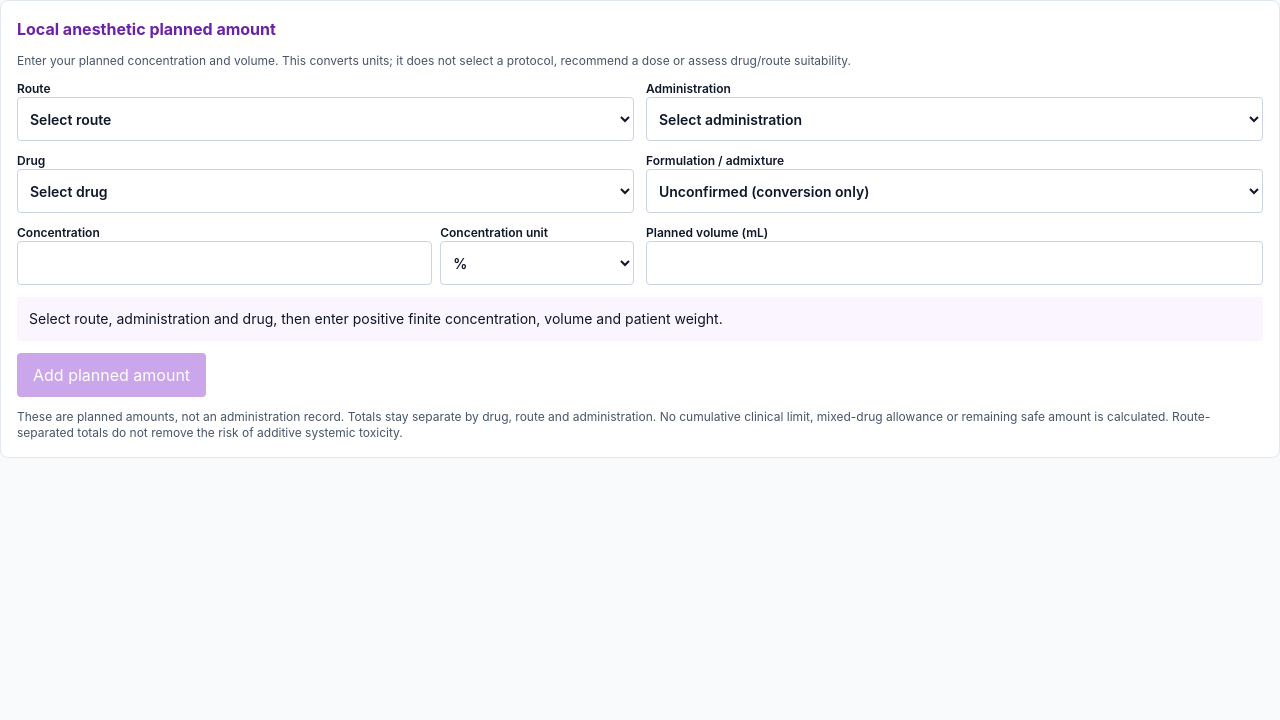
Test: Visible cautions and independent arithmetic › keeps arithmetic available when a formulation cannot support a reference comparison
The image size is (1280, 720).
Select "Caudal" in the dropdown labelled "Route" at x=326, y=119, box [17,97,634,141]
Select "Single administration" in the dropdown labelled "Administration" at x=954, y=119, box [646,97,1263,141]
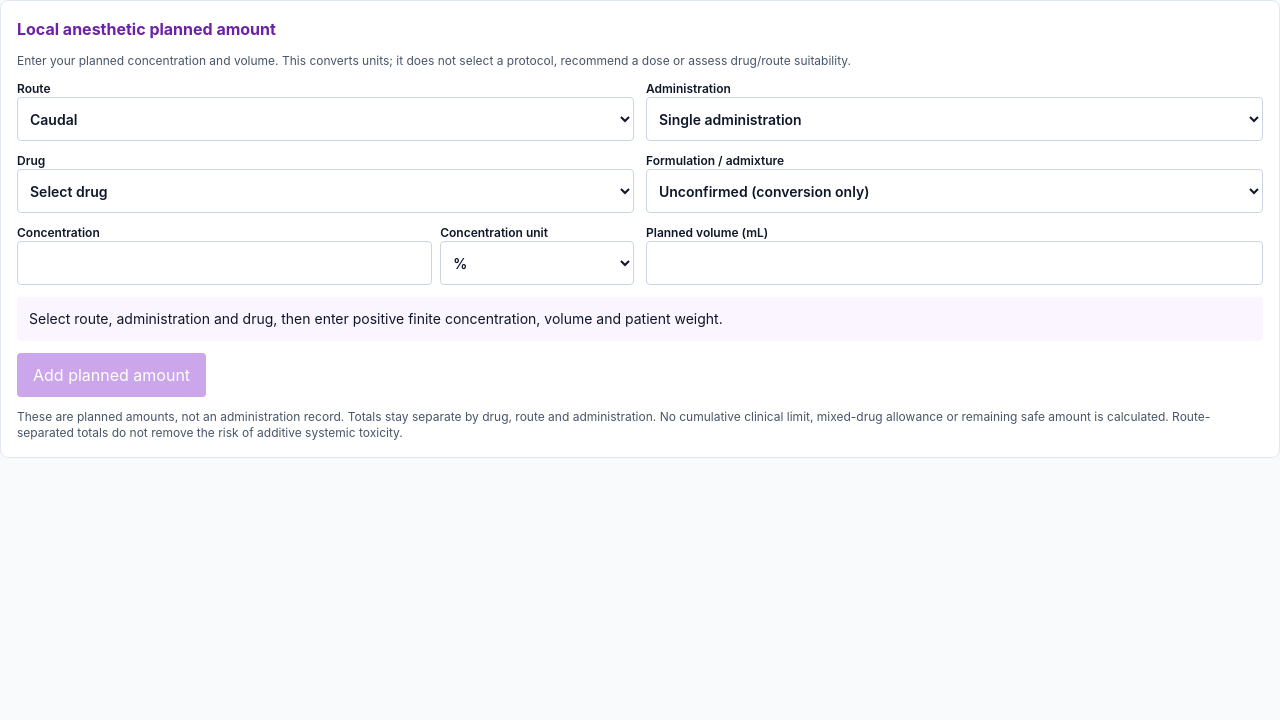
Select "Bupivacaine" in the dropdown labelled "Drug" at x=326, y=191, box [17,169,634,213]
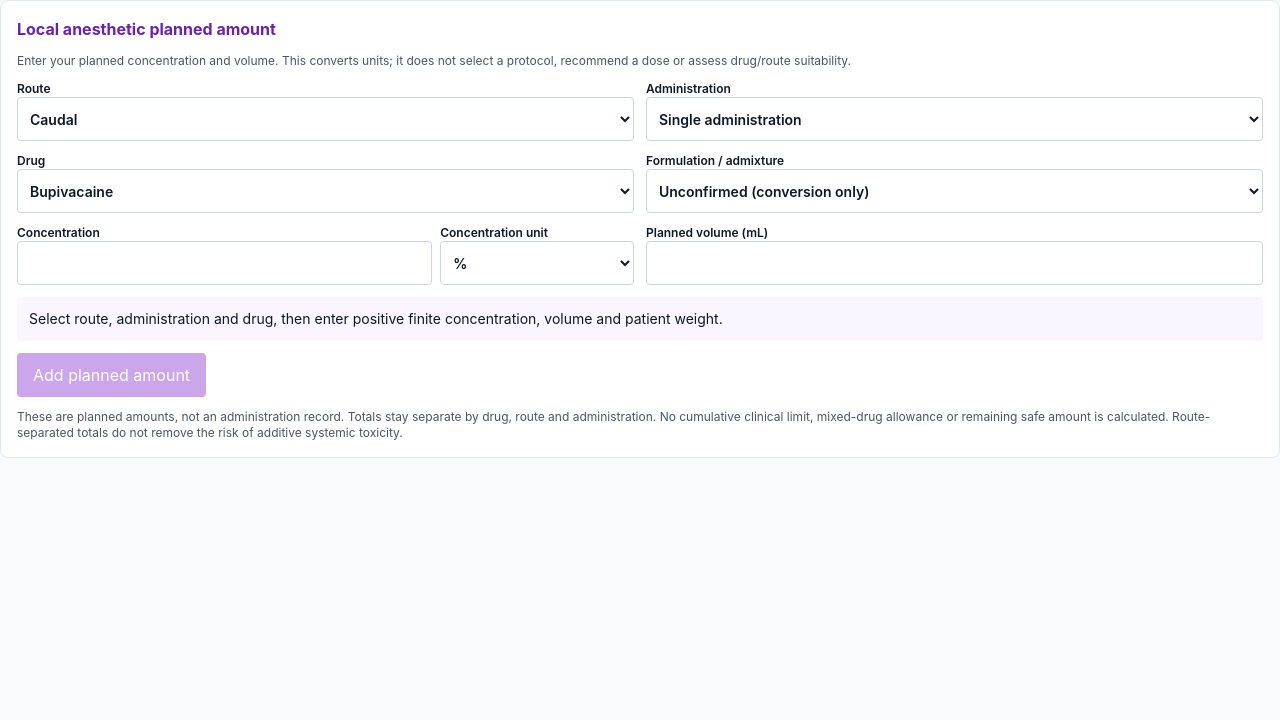
Select "Plain — no epinephrine or other adjuvants" in the dropdown labelled "Formulation / admixture" at x=954, y=191, box [646,169,1263,213]
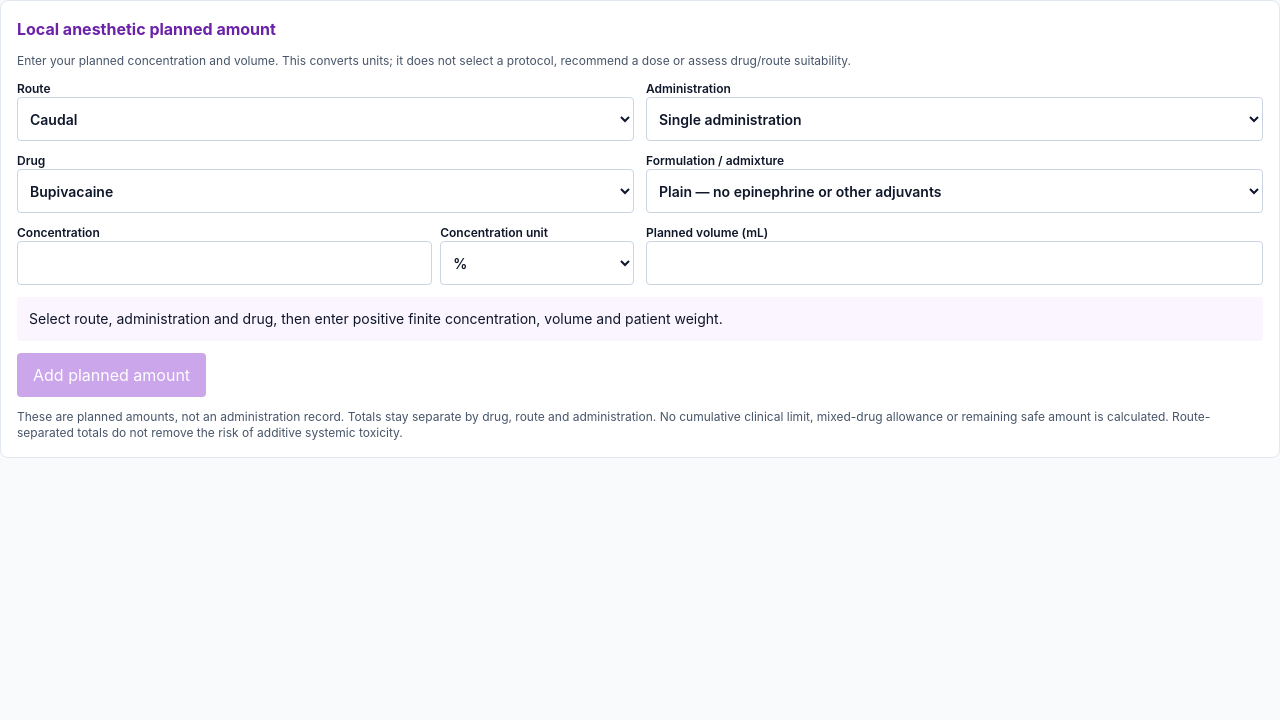
Type "0.25" into the number field labelled "Concentration" at x=225, y=263, box [17,241,432,285]
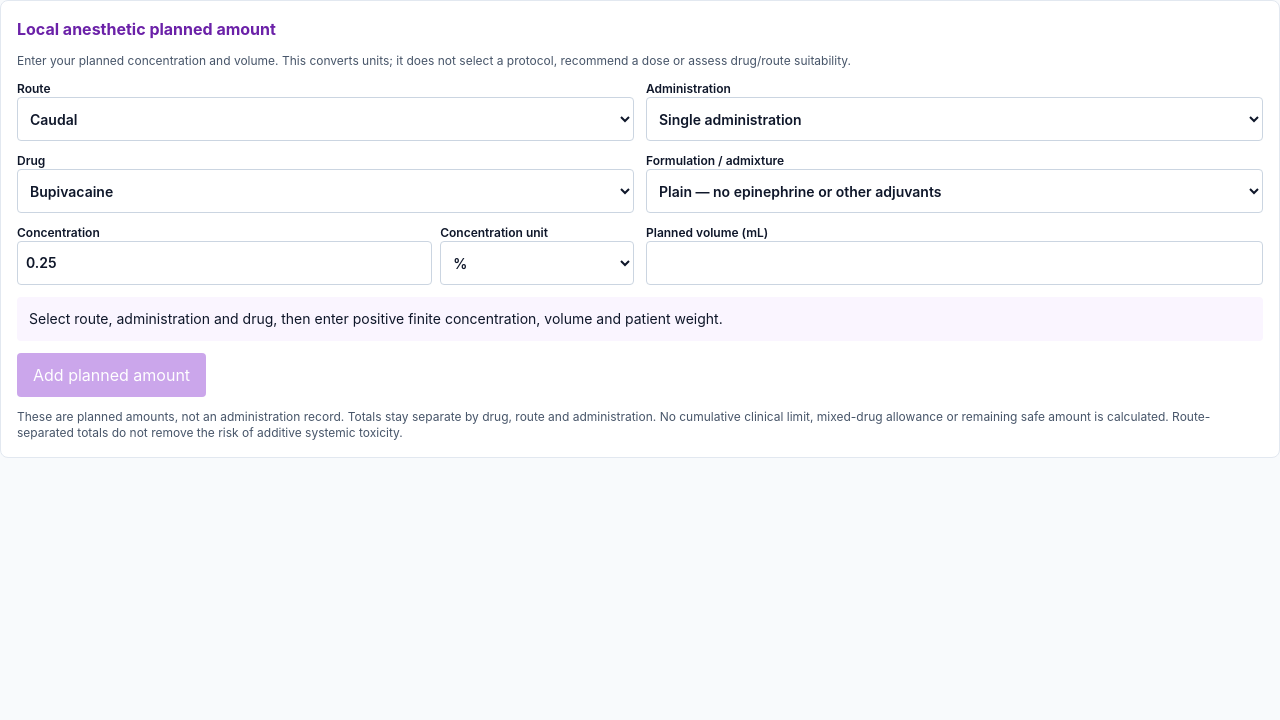
Type "12.5" into the number field labelled "Planned volume (mL)" at x=954, y=263, box [646,241,1263,285]
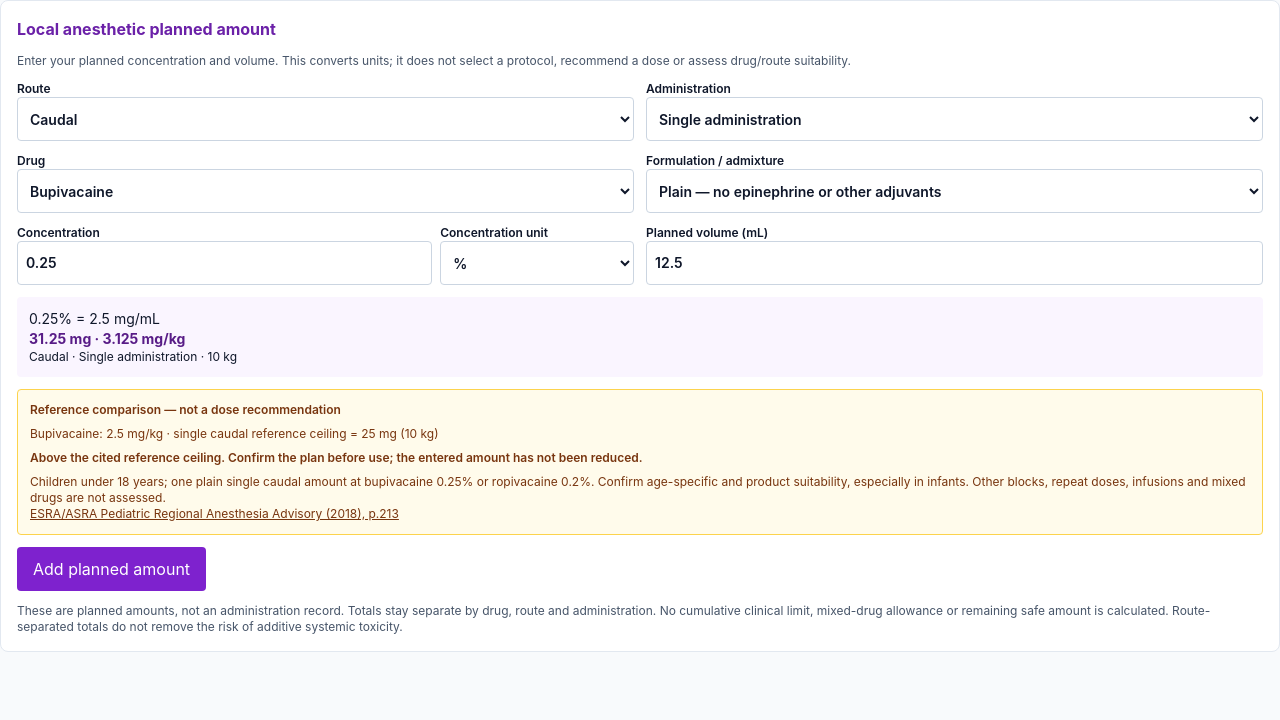
Select "With epinephrine / other adjuvants" in the dropdown labelled "Formulation / admixture" at x=954, y=191, box [646,169,1263,213]
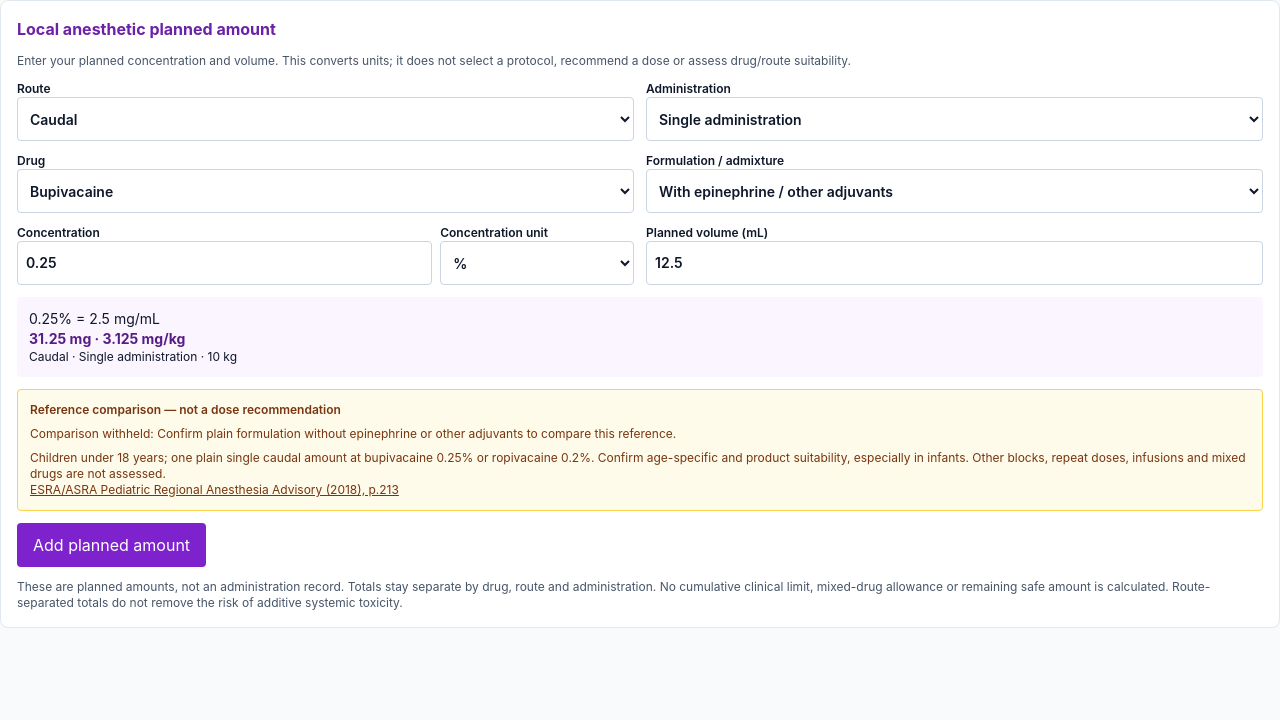
Expected: the text "31.25 mg · 3.125 mg/kg" is shown, [29,330,185,347]
Expected: the text "Comparison withheld:" is shown, [30,426,154,441]
Expected: the text "single caudal reference ceiling =" is gone
